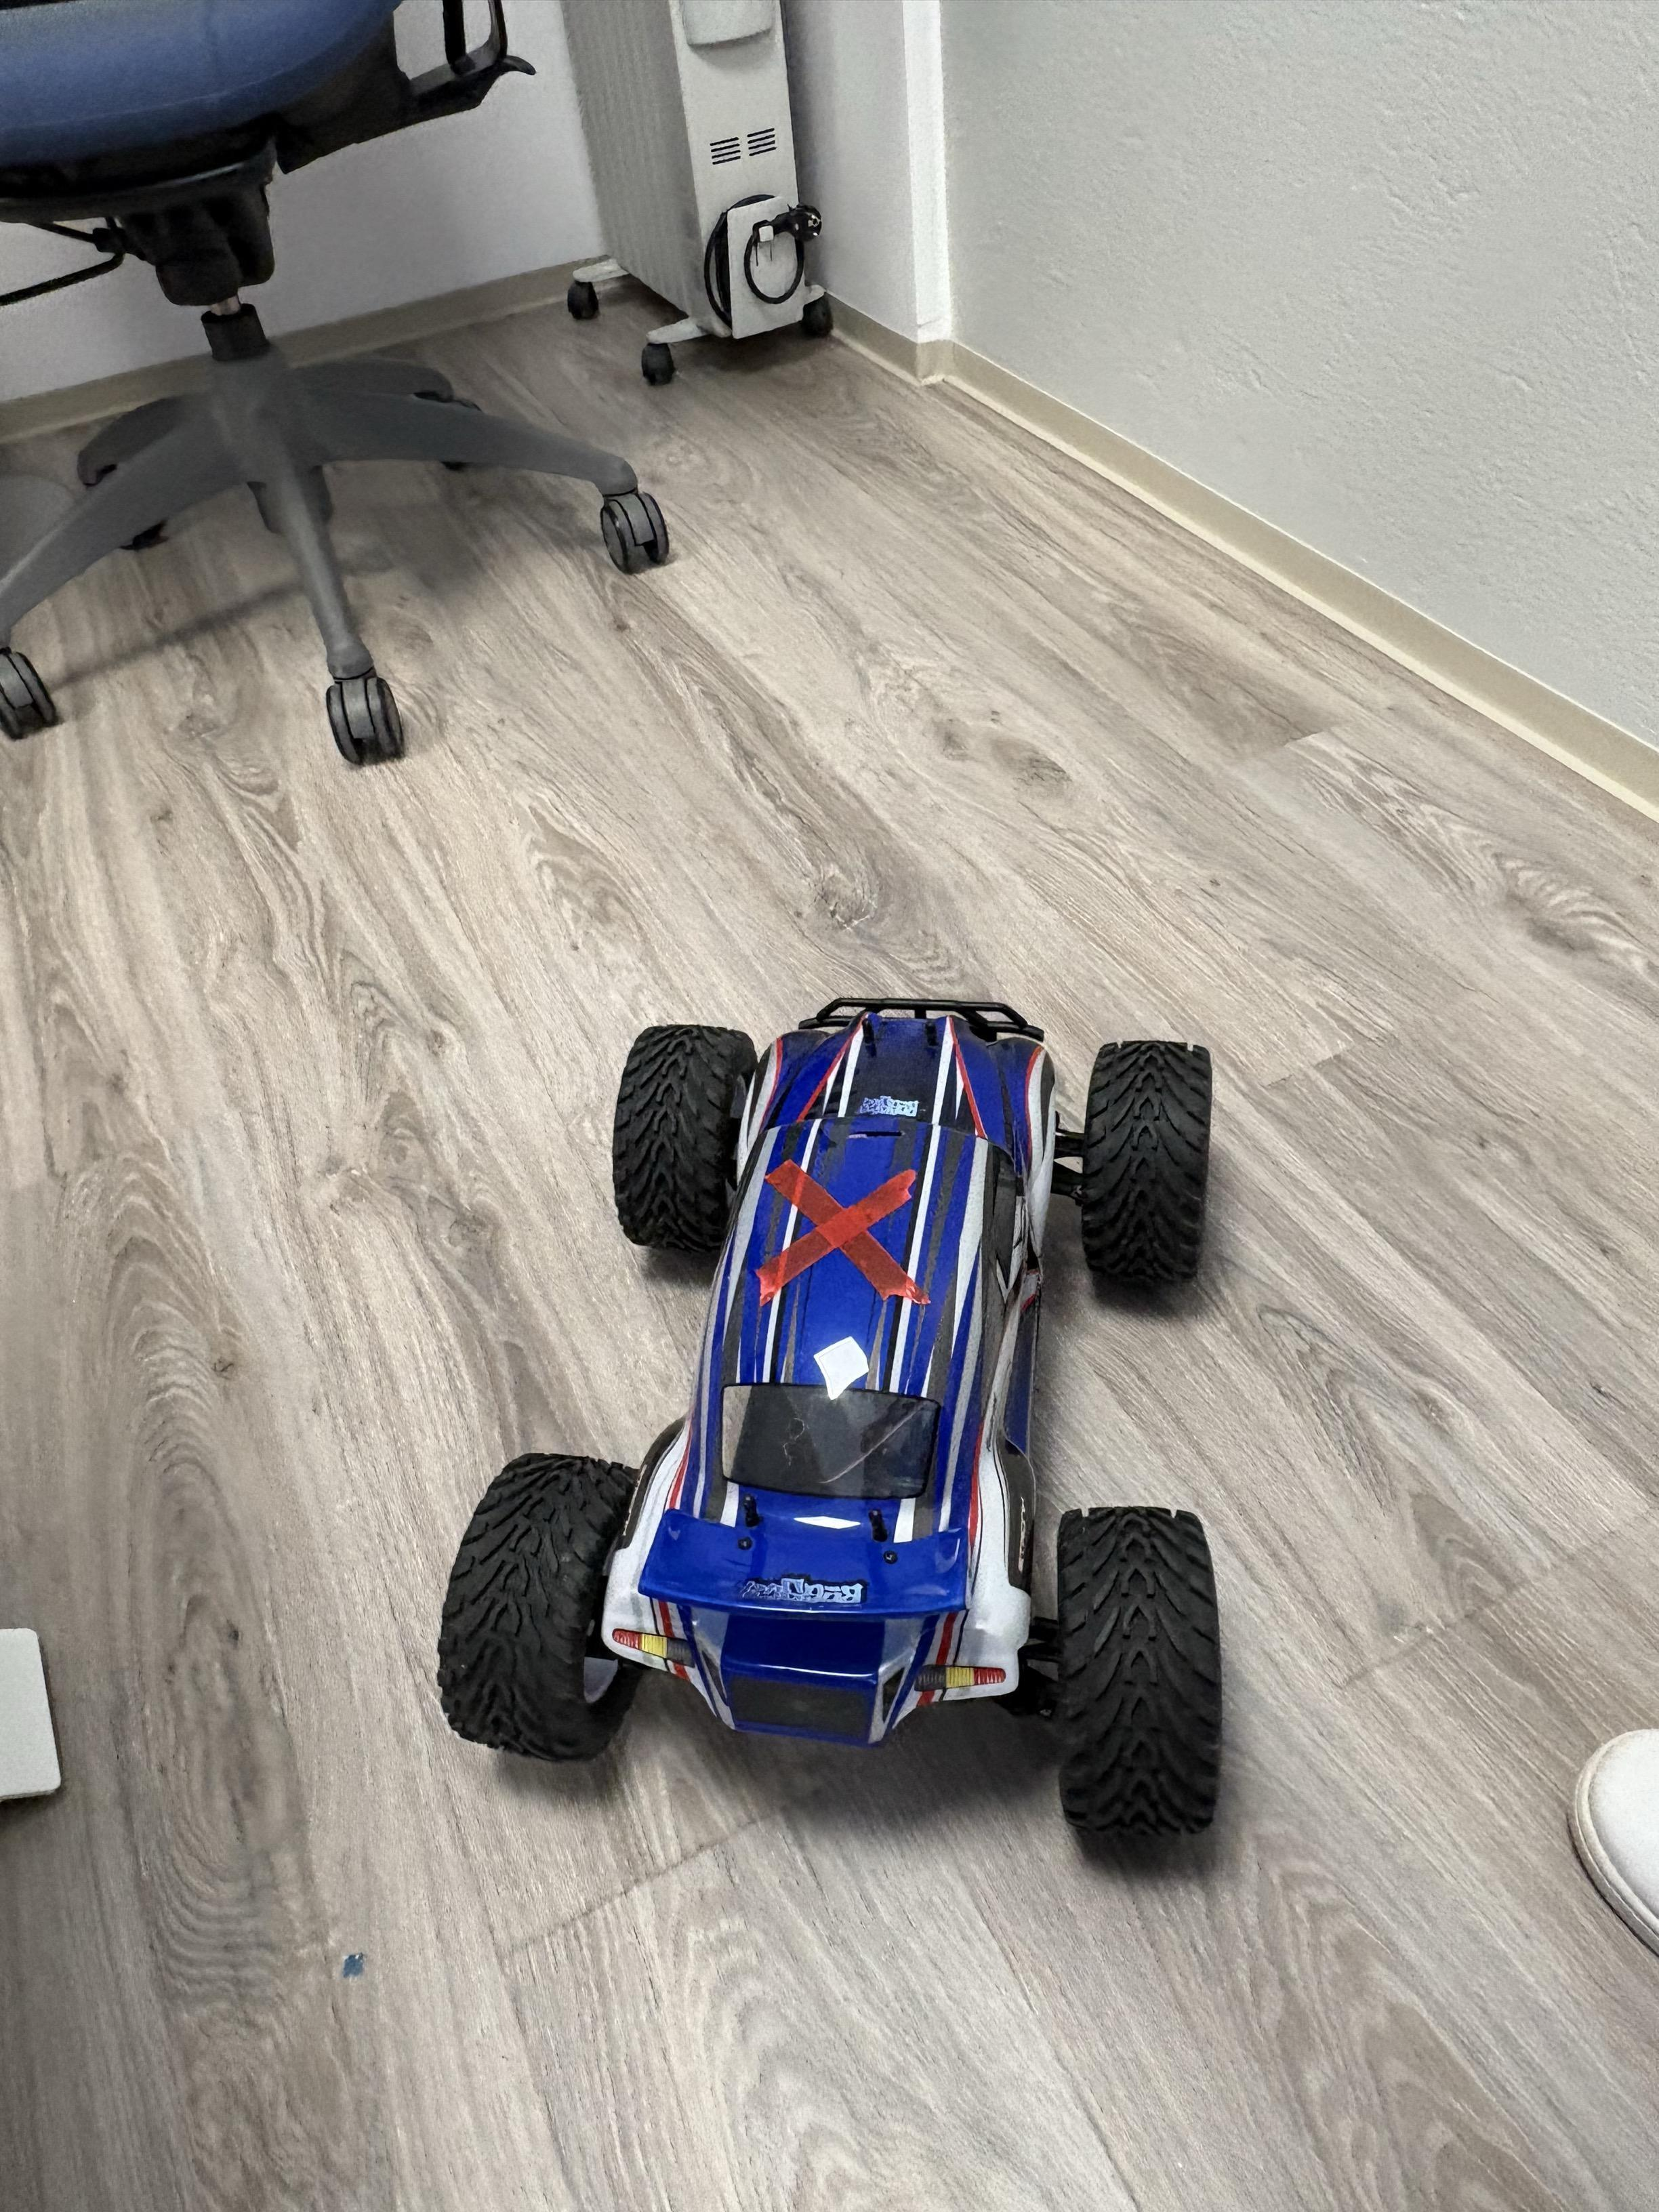Car: (468, 942, 1393, 1921)
